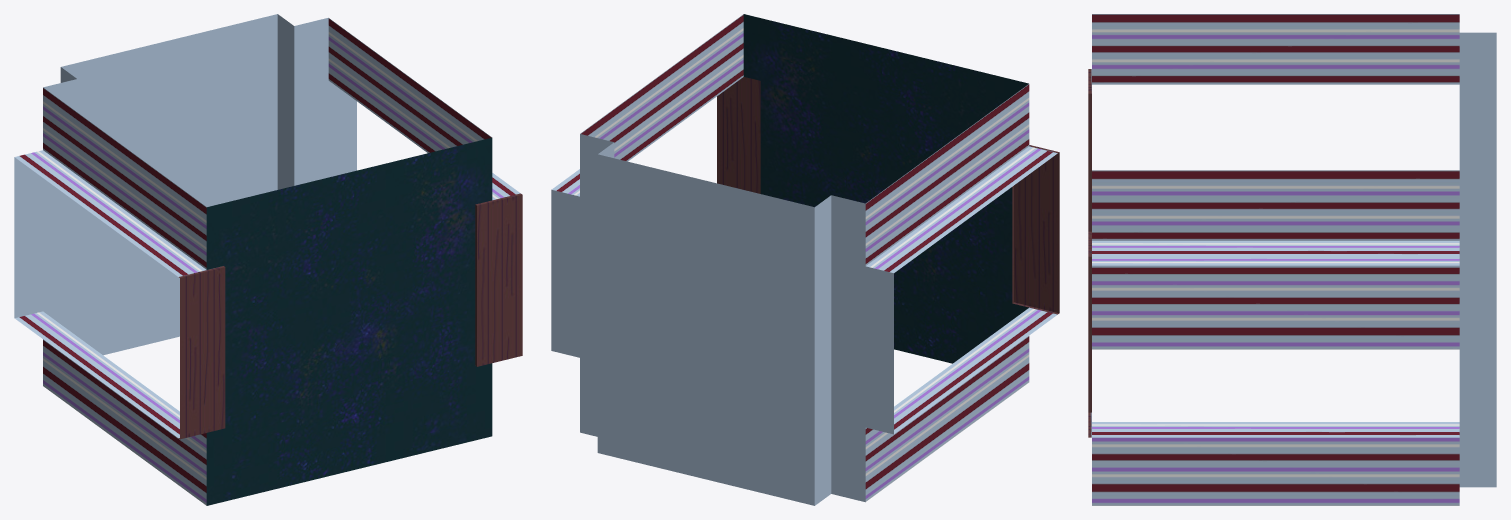
Rendered from Hall__Small_Door.fbx.
3 renders of one model, left to right at view 1: azimuth 30°, elevation 25°; view 2: azimuth 150°, elevation 25°; view 3: azimuth 270°, elevation 25°, orthographic. The views are drawn at different scales.
Visible parts, largest first — view 1: Hall__Small_Door; view 2: Hall__Small_Door; view 3: Hall__Small_Door.
Boxes of the visible parts, x1,y1,x2,y2 form: Hall__Small_Door: (14, 14, 522, 505); Hall__Small_Door: (551, 14, 1059, 505); Hall__Small_Door: (1088, 14, 1496, 505).
Bounding box in the file's own units: 240 × 200 × 221.
Materials: 2 (2 with a texture image).
